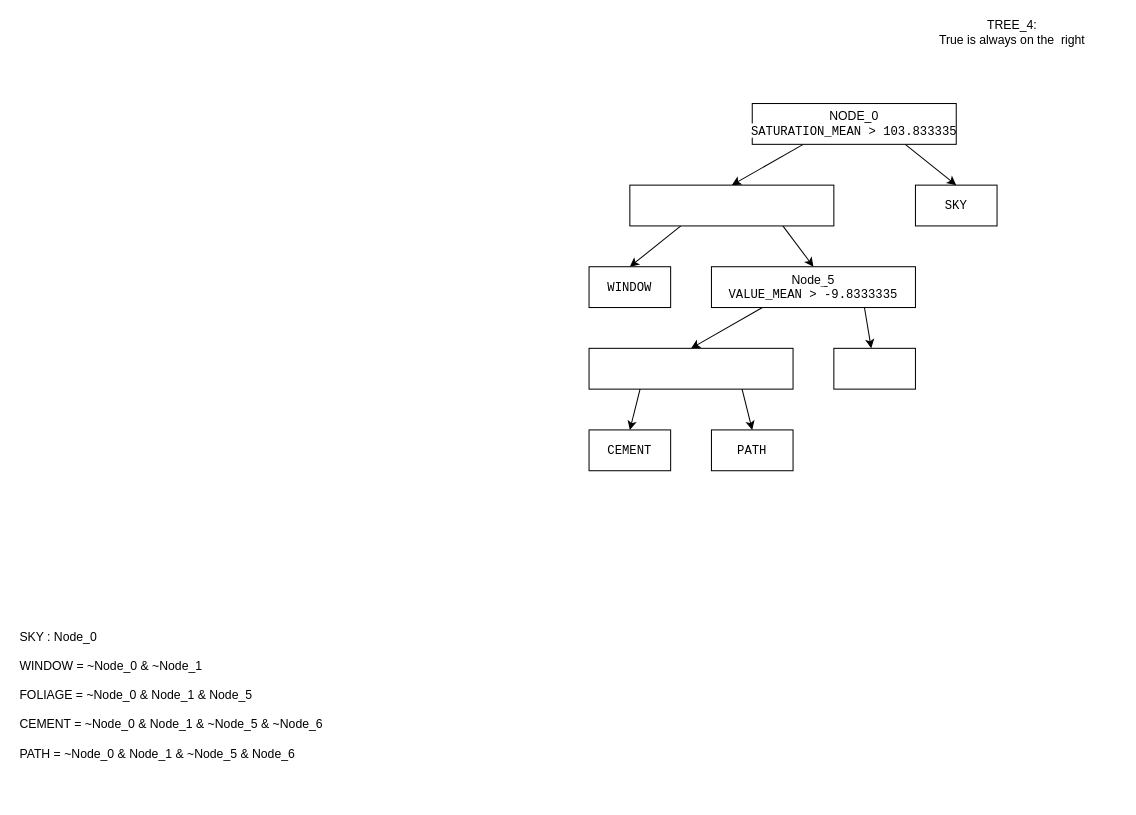
Some shapes in this 1136 by 815 pixel diagram are drawn without their labels. Each missing label, with the centre of its shape:
"FOLIAGE" goes at point (874, 368).
"NODE_1 INTENSITY_MEAN > 0.872057675" goes at point (731, 205).
"NODE_6 HEDGE_SD > 2.5277775" goes at point (690, 368).
